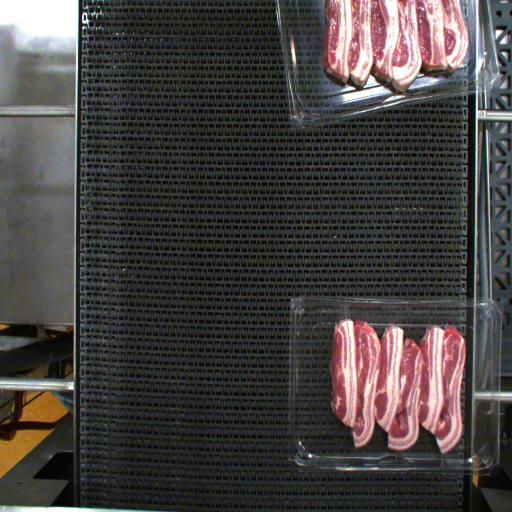packaging-error: (336, 305, 352, 322)
